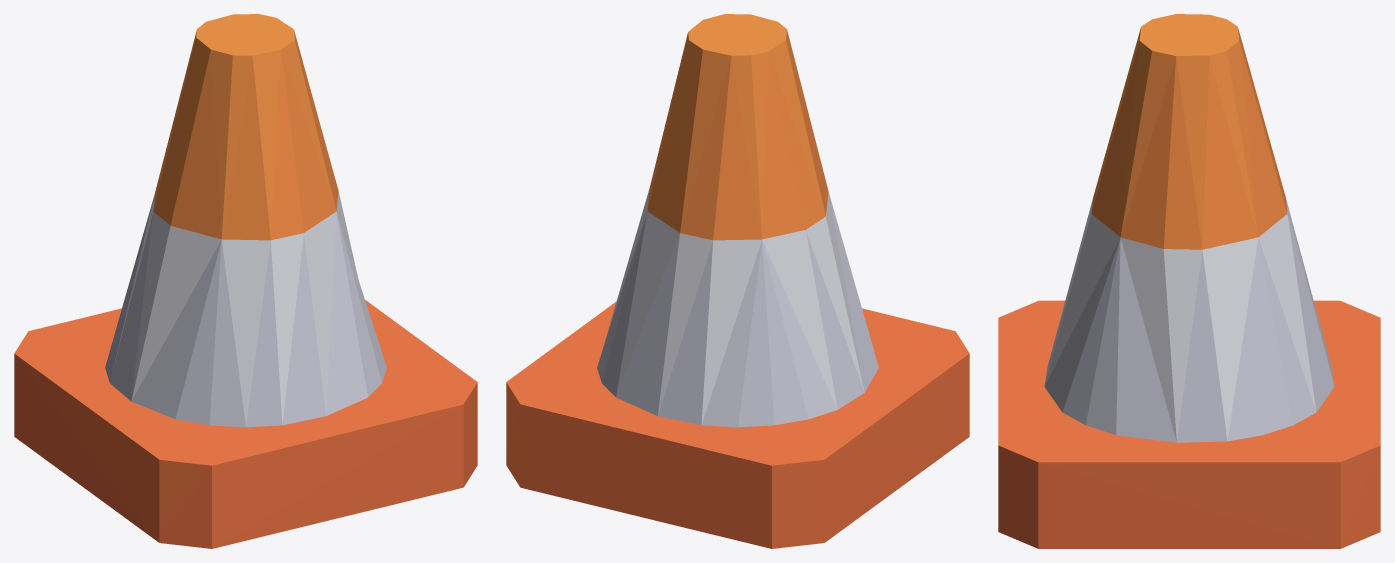
File: cone_vita.obj
The picture shows the model from 3 angles, left to right: view 1: azimuth 30°, elevation 25°; view 2: azimuth 150°, elevation 25°; view 3: azimuth 270°, elevation 25°; orthographic projection. The views are drawn at different scales.
Size of the model in its own units: 0.4762 by 0.5952 by 0.4762.
Materials: 1 (1 with a texture image).
